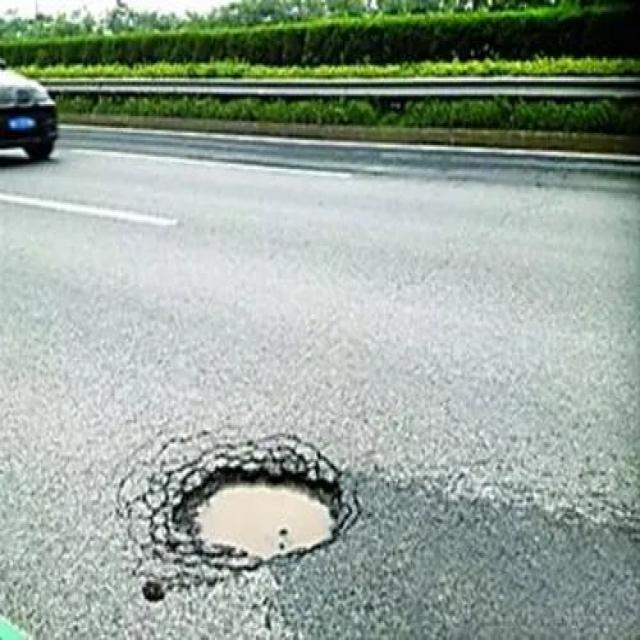Pothole: (133, 437, 359, 575)
